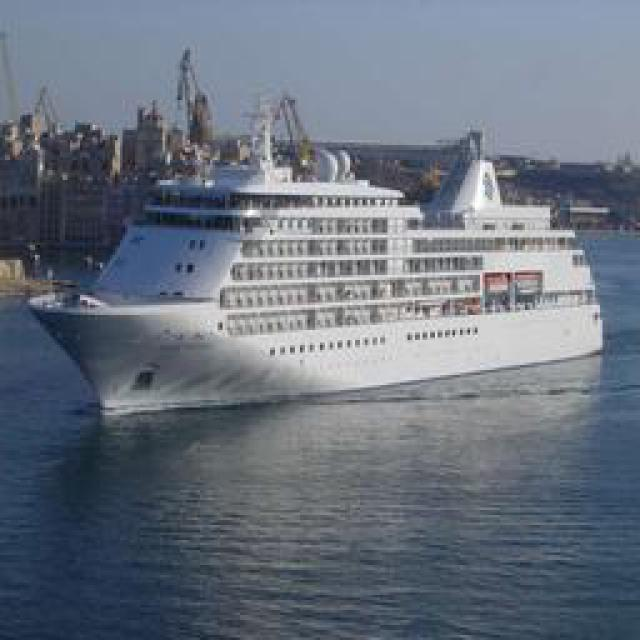Ship: (36, 133, 601, 411)
